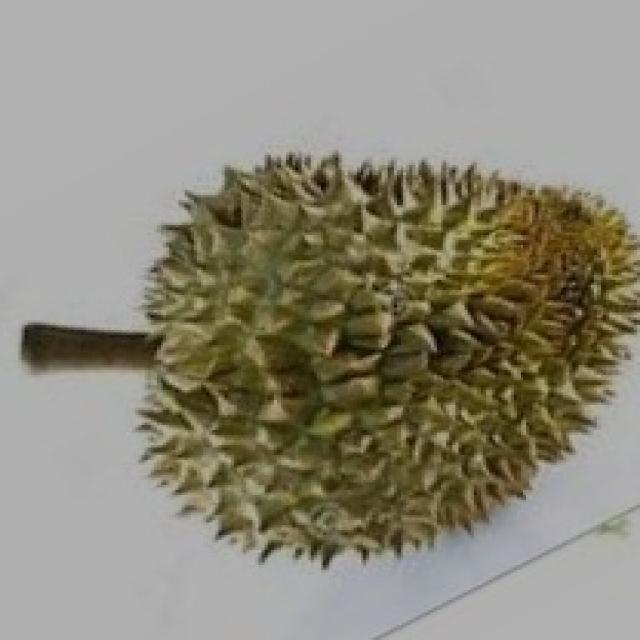fruit: (292, 192, 640, 620), (80, 225, 425, 630)
